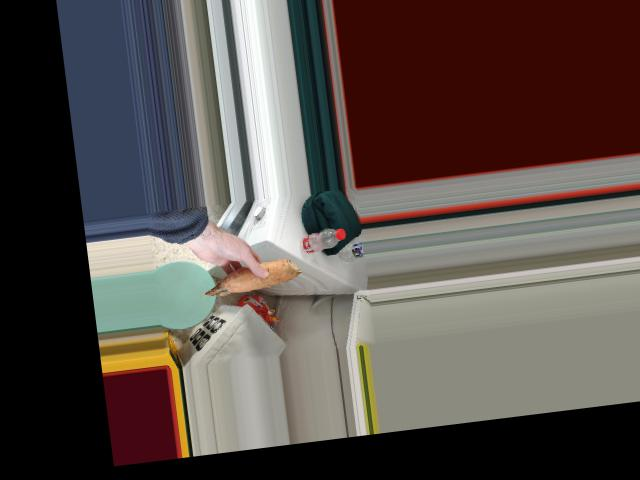sweet_potato: (199, 259, 296, 297)
